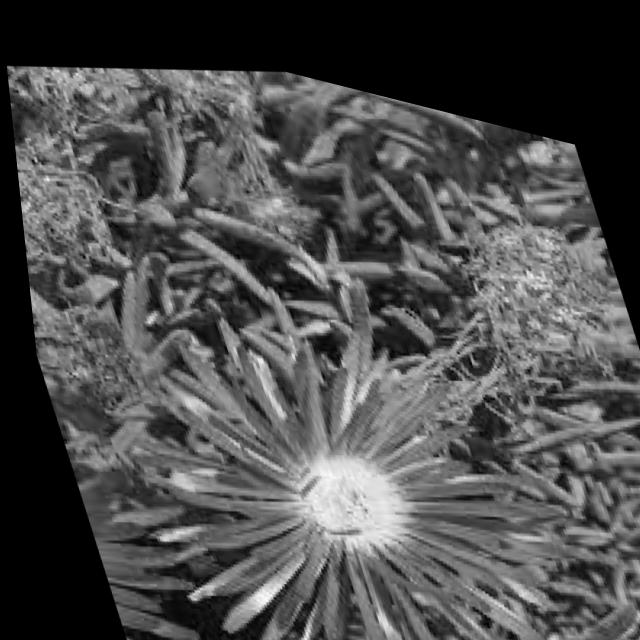Flower: (69, 218, 600, 640)
